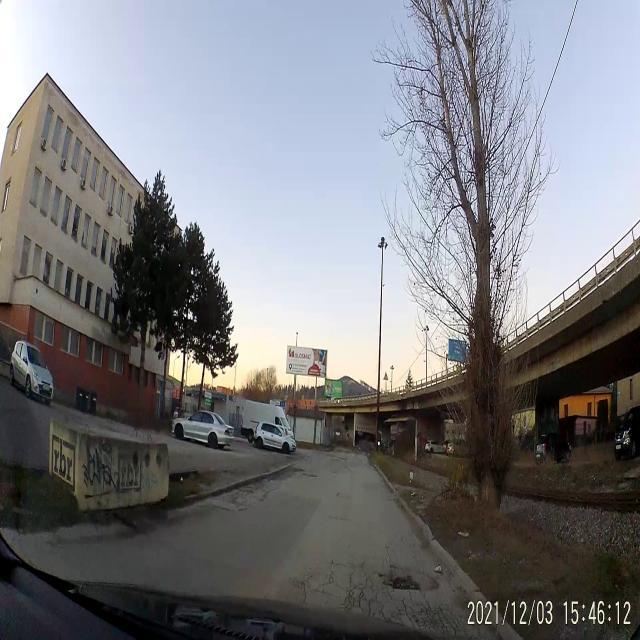Pothole: (380, 570, 430, 594)
